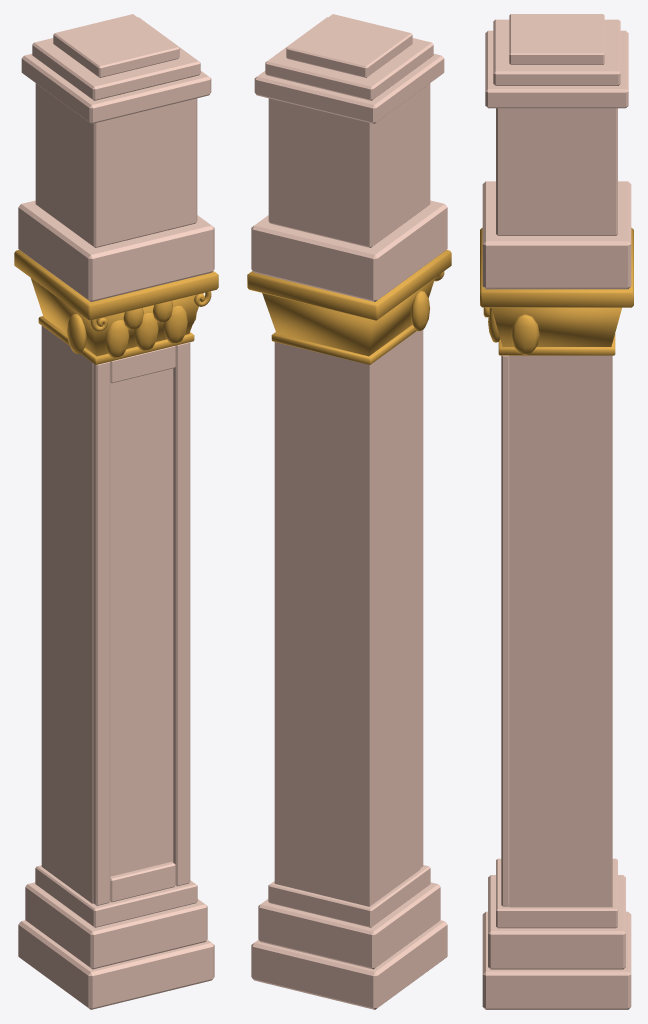
The model's file is Rempart_Pilier.fbx.
The picture shows the model from 3 angles, left to right: view 1: azimuth 30°, elevation 25°; view 2: azimuth 150°, elevation 25°; view 3: azimuth 270°, elevation 25°; orthographic projection.
Parts seen in each view (by area): view 1: Pilier_Pierre, Pilier_Or; view 2: Pilier_Pierre, Pilier_Or; view 3: Pilier_Pierre, Pilier_Or.
Part boxes in pixels (x1,y1,x2,y2): Pilier_Pierre: [18, 14, 214, 1009]; Pilier_Or: [14, 250, 218, 364]; Pilier_Pierre: [251, 14, 447, 1009]; Pilier_Or: [247, 250, 451, 364]; Pilier_Pierre: [482, 14, 631, 1009]; Pilier_Or: [480, 227, 633, 355].
Size of the model in its own units: 5.8 by 39.4 by 5.8.
